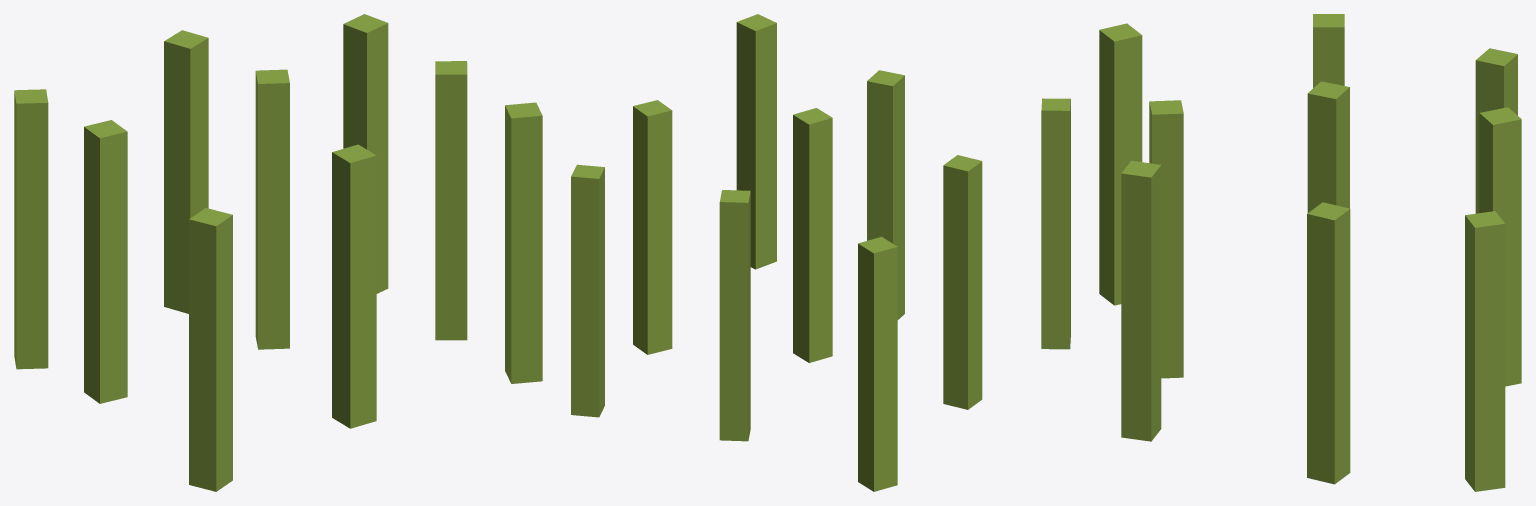
File: wheat_stage_2.glb
3 renders of one model, left to right at view 1: azimuth 30°, elevation 25°; view 2: azimuth 150°, elevation 25°; view 3: azimuth 270°, elevation 25°, orthographic. The views are drawn at different scales.
Visible parts, largest first — view 1: wheat.002, wheat.004, wheat.005, wheat.008, wheat.003, wheat.001, wheat.006, wheat.018, wheat.007; view 2: wheat.004, wheat.006, wheat.001, wheat.018, wheat.008, wheat.007, wheat.003, wheat.005, wheat.002; view 3: wheat.018, wheat.008, wheat.007, wheat.005, wheat.003, wheat.002, wheat.001, wheat.006, wheat.004.
Boxes of the visible parts, <box> form: wheat.002: <box>332,144,376,428</box>; wheat.004: <box>84,120,127,403</box>; wheat.005: <box>189,208,232,491</box>; wheat.008: <box>505,102,542,383</box>; wheat.003: <box>164,30,208,313</box>; wheat.001: <box>255,69,289,349</box>; wheat.006: <box>14,89,48,369</box>; wheat.018: <box>435,61,467,340</box>; wheat.007: <box>343,14,388,293</box>; wheat.004: <box>943,155,982,409</box>; wheat.006: <box>858,236,897,491</box>; wheat.001: <box>793,108,832,362</box>; wheat.018: <box>633,100,672,354</box>; wheat.008: <box>736,14,776,269</box>; wheat.007: <box>571,164,604,417</box>; wheat.003: <box>719,190,750,441</box>; wheat.005: <box>1041,98,1070,349</box>; wheat.002: <box>867,70,904,319</box>; wheat.018: <box>1307,202,1350,484</box>; wheat.008: <box>1121,160,1161,441</box>; wheat.007: <box>1465,211,1505,491</box>; wheat.005: <box>1099,23,1142,305</box>; wheat.003: <box>1479,107,1521,386</box>; wheat.002: <box>1149,100,1183,378</box>; wheat.001: <box>1307,81,1349,212</box>; wheat.006: <box>1475,48,1517,213</box>; wheat.004: <box>1313,14,1344,88</box>.
Bounding box in the file's own units: 0.8289 × 0.6457 × 0.7978.
